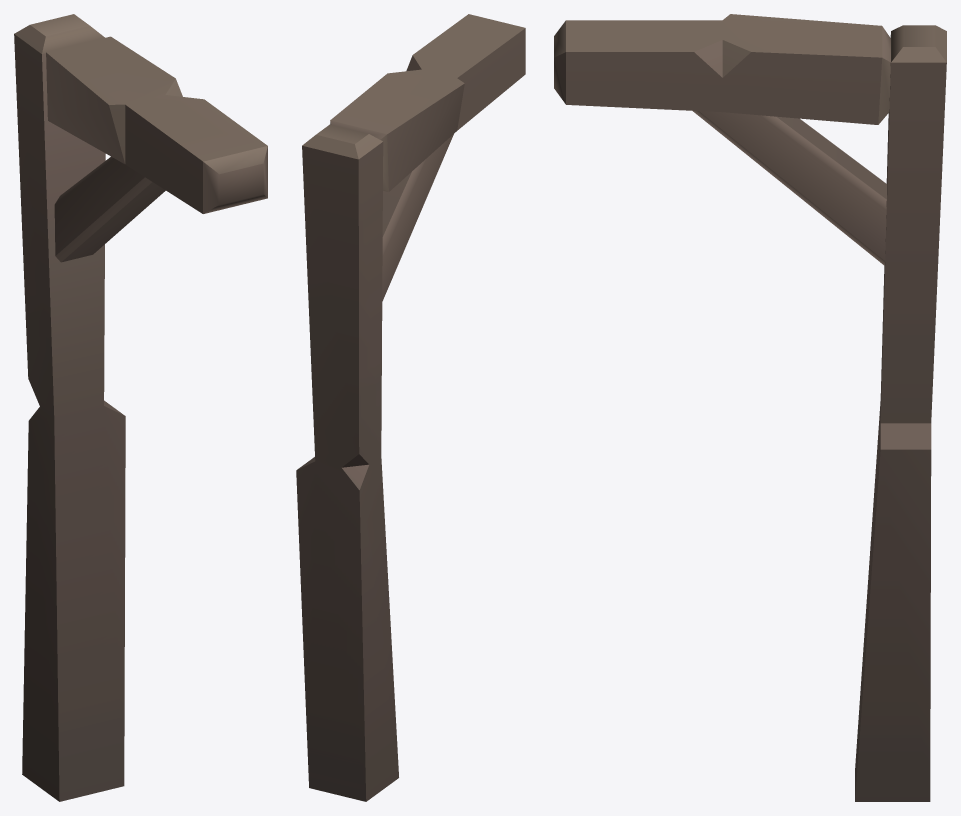
Rendered from d_kaykit_poteau.glb.
3 renders of one model, left to right at view 1: azimuth 30°, elevation 25°; view 2: azimuth 150°, elevation 25°; view 3: azimuth 270°, elevation 25°, orthographic. The views are drawn at different scales.
Visible parts, largest first — view 1: d_kaykit_poteau; view 2: d_kaykit_poteau; view 3: d_kaykit_poteau.
Part boxes in pixels (x1=…): d_kaykit_poteau: x1=14, y1=14, x2=267, y2=801; d_kaykit_poteau: x1=296, y1=14, x2=525, y2=801; d_kaykit_poteau: x1=554, y1=14, x2=946, y2=801.
Bounding box in the file's own units: 0.4238 × 3.3 × 1.57.
1 material, 1 textured.
